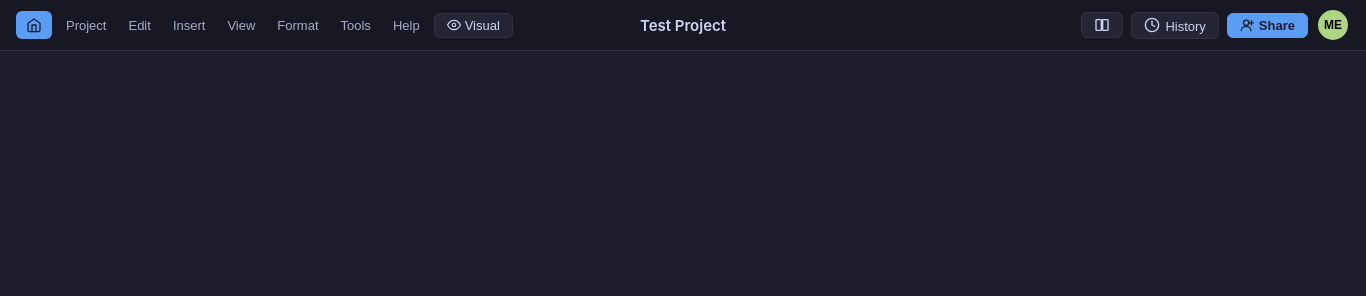
Toolbar › opens Project menu and shows menu items on click
Click the button "Project". click: (86, 25)
box: [56,14,116,36]
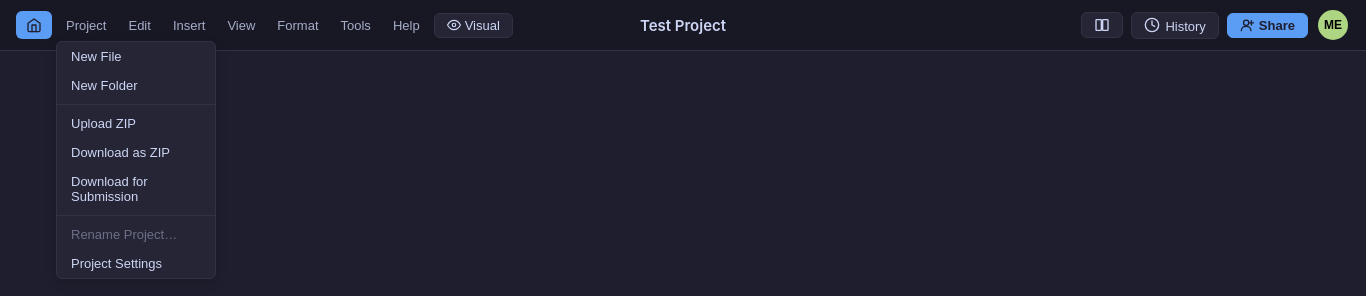
Check: the button "New File" is shown, box [57,42,215,70]
Check: the button "New Folder" is shown, box [57,70,215,100]
Check: the button "Upload ZIP" is shown, box [57,108,215,138]
